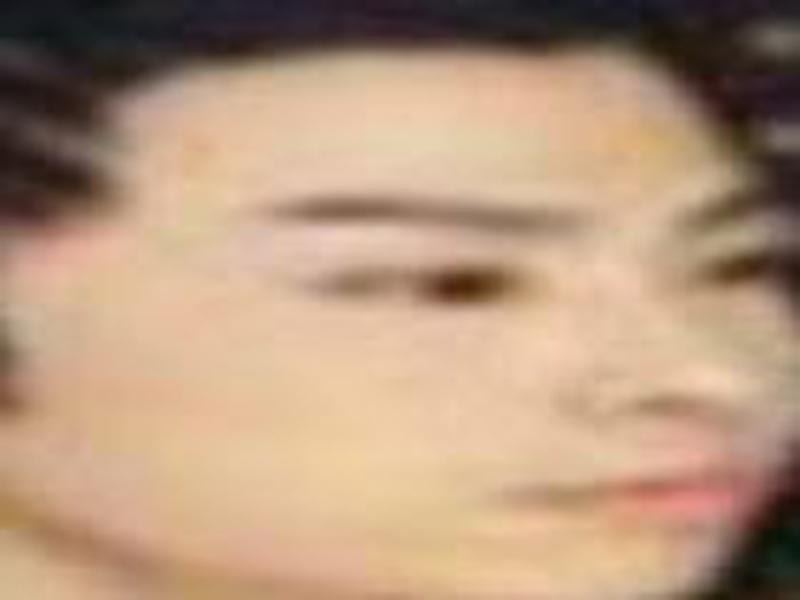without_mask: (12, 53, 789, 600)
